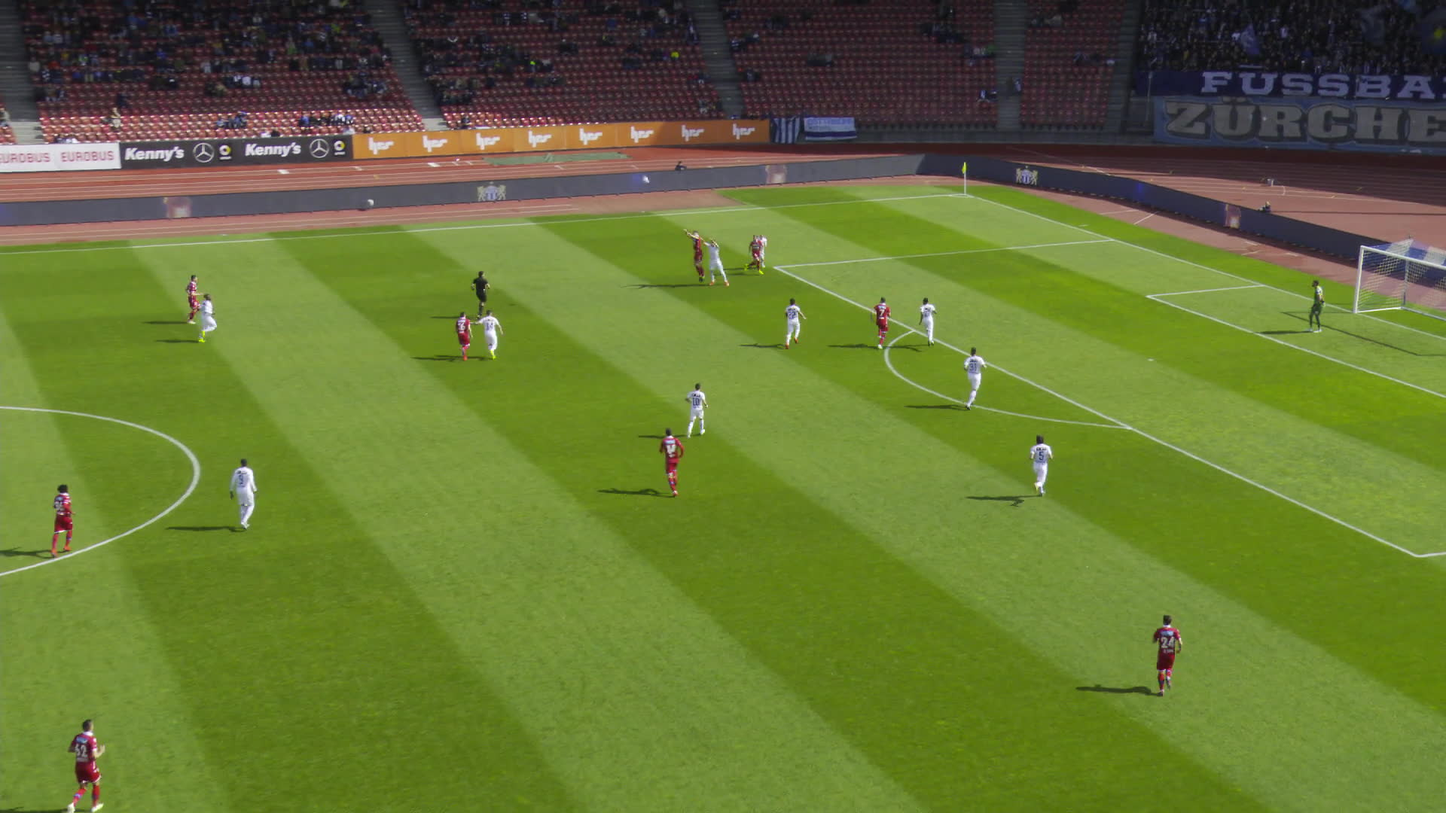ball: (636, 168, 648, 181)
player: (1142, 605, 1194, 696), (69, 714, 108, 811), (949, 344, 992, 407), (228, 455, 263, 531), (47, 482, 82, 556), (1019, 431, 1051, 503), (660, 419, 688, 494), (189, 291, 224, 341), (177, 269, 209, 323), (685, 379, 713, 437), (476, 306, 505, 358), (450, 306, 477, 361), (910, 297, 938, 350), (1302, 277, 1326, 333), (779, 297, 805, 348), (868, 291, 890, 347), (709, 235, 737, 278), (685, 229, 707, 283), (741, 233, 767, 273), (754, 233, 779, 269)
referee: (474, 268, 496, 317)
